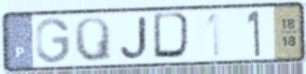1: (246, 9, 263, 59), (206, 13, 222, 58)
D: (152, 11, 195, 62)
G: (35, 16, 72, 66)
J: (118, 15, 150, 61)
Q: (72, 15, 114, 64)
